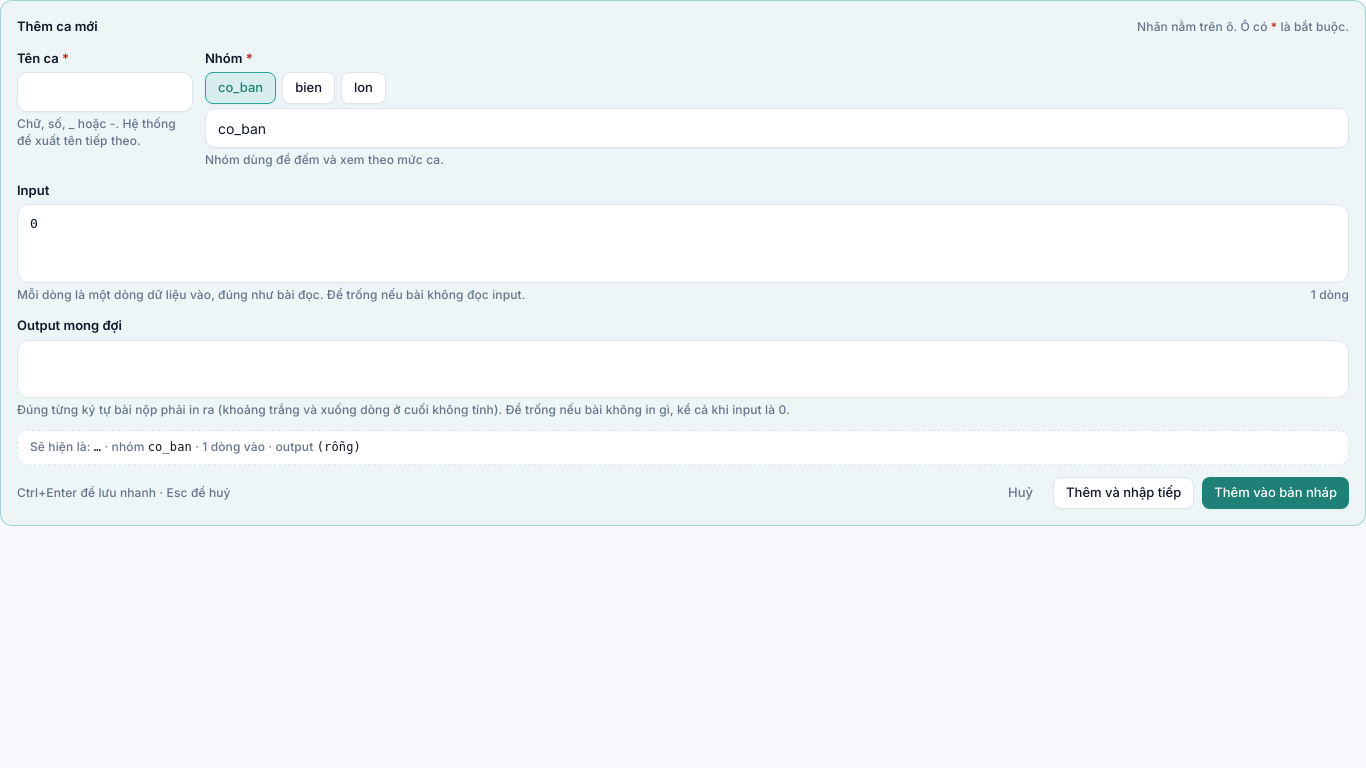
Test: CaseForm — thêm và sửa một ca (mock-up v2) › sau lần gửi hỏng, sửa ô nào thì lỗi của ô đó mất ngay (không đợi gửi lại)
This screenshot has width=1366, height=768.
Step 1. Click the button "Thêm vào bản nháp" → (1276, 493), box [1202, 477, 1349, 509]
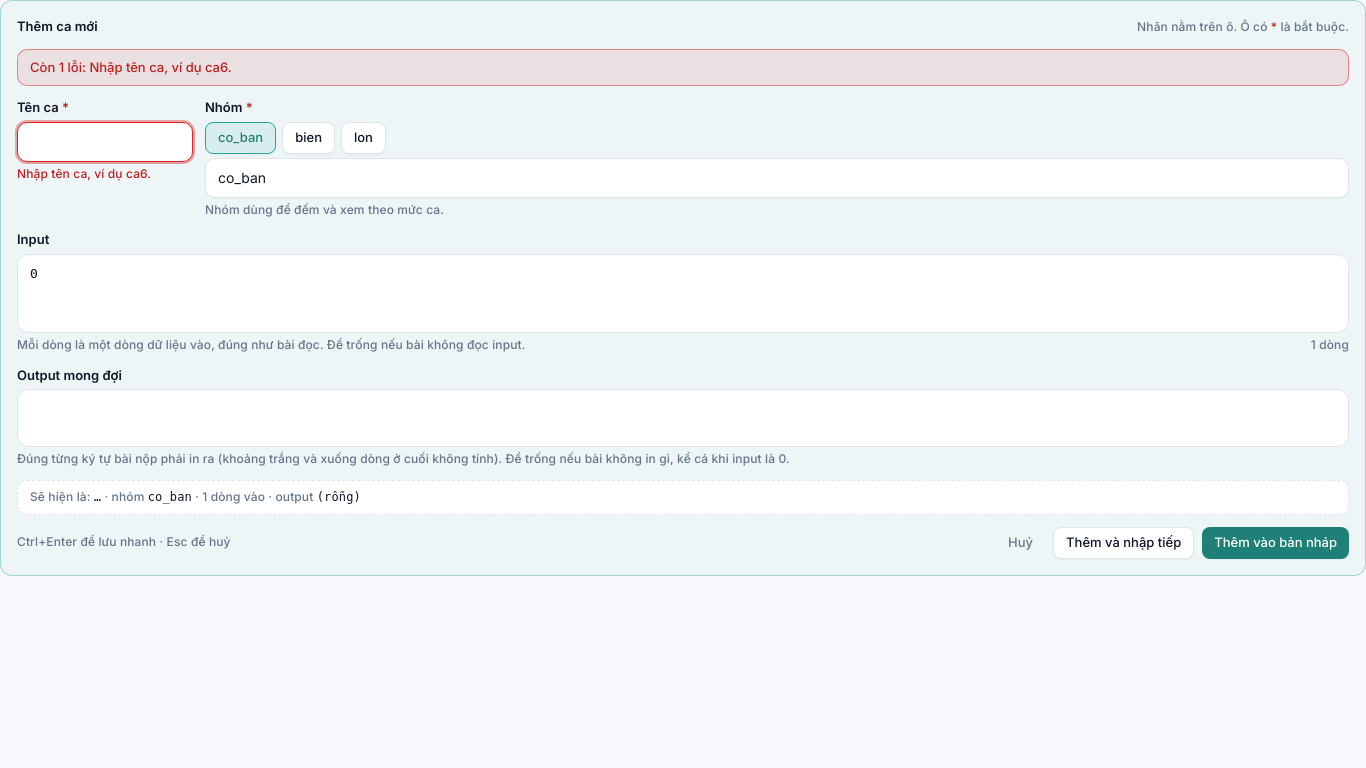
Now the field labelled "Tên ca *" is marked as invalid
Step 2. Type "ca2" into the field labelled "Tên ca *" → (105, 142), box [17, 122, 193, 162]
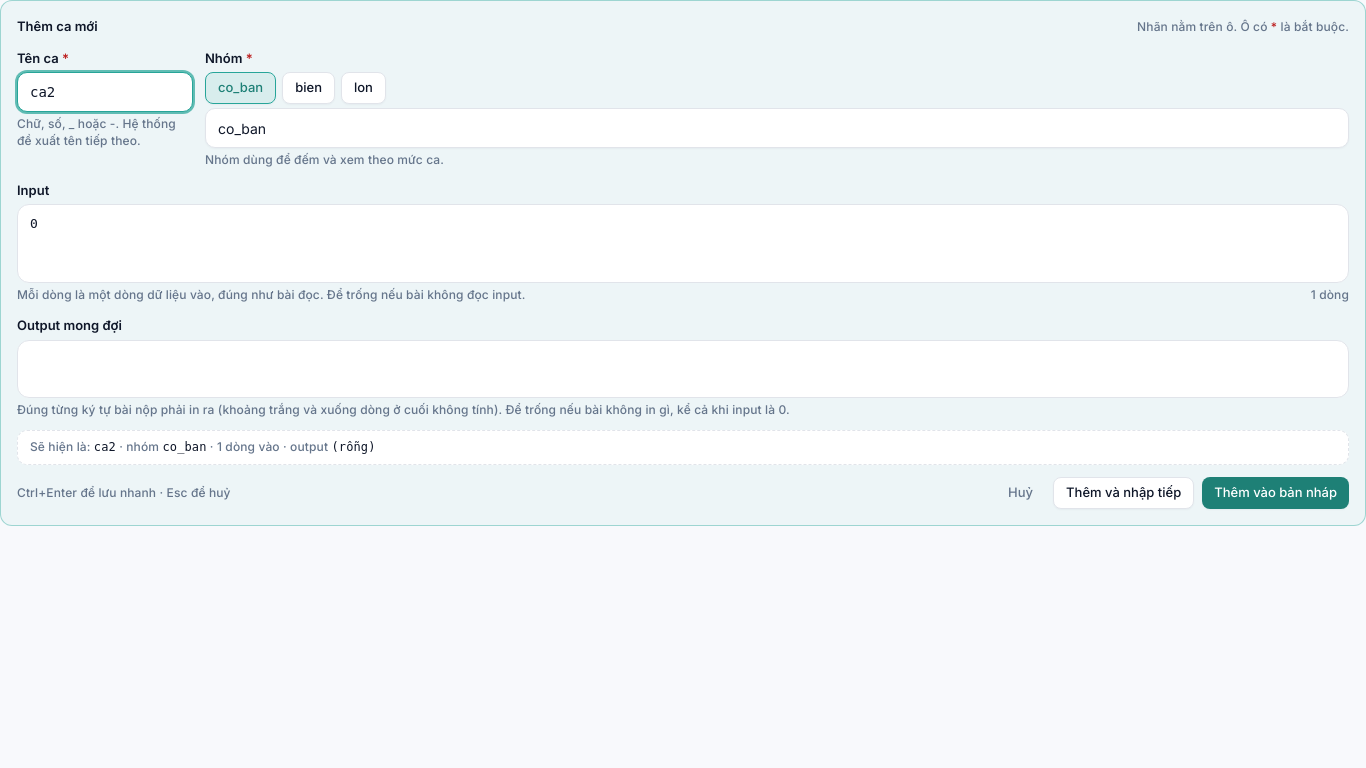
Now the message "Còn 1 lỗi: Nhập tên ca, ví dụ ca6." is gone
